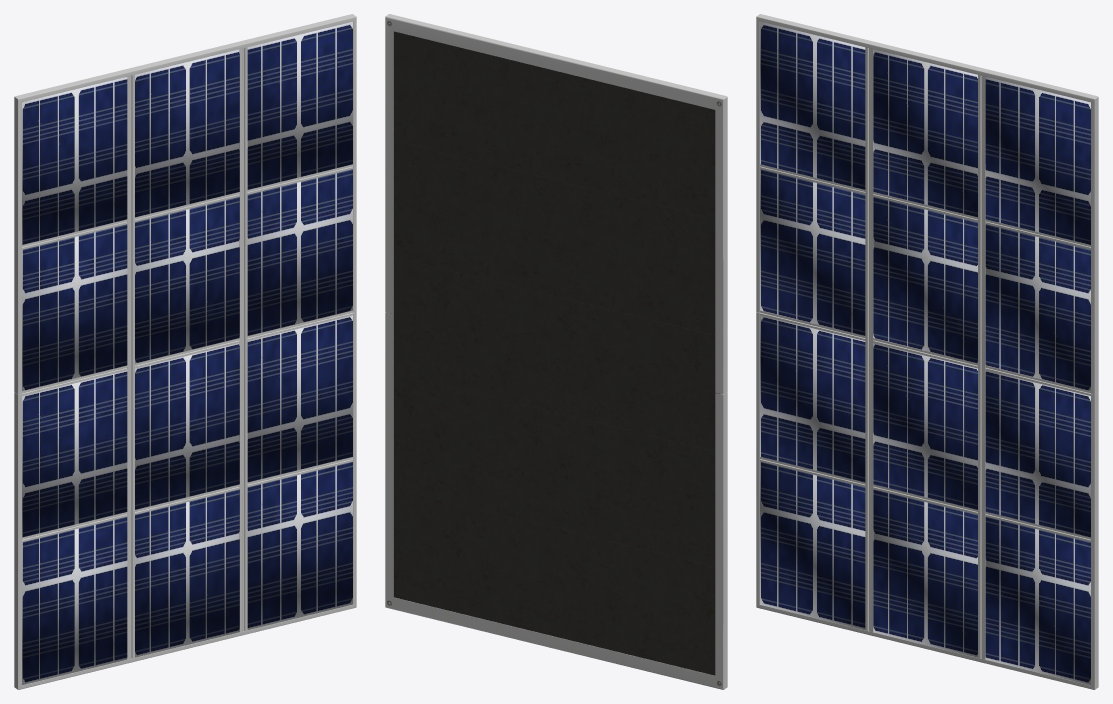
Rendered from solar_panel.glb.
3 renders of one model, left to right at view 1: azimuth 30°, elevation 25°; view 2: azimuth 150°, elevation 25°; view 3: azimuth 330°, elevation 25°, orthographic.
Visible parts, largest first — view 1: solar_face, solar_panel; view 2: solar_panel; view 3: solar_face, solar_panel.
Boxes of the visible parts, bbox=[...] form: solar_face: bbox=[22, 22, 352, 685]; solar_panel: bbox=[14, 14, 356, 689]; solar_panel: bbox=[385, 14, 727, 689]; solar_face: bbox=[760, 21, 1090, 685]; solar_panel: bbox=[756, 14, 1098, 689].
Bounding box in the file's own units: 0.309 × 0.515 × 0.00756.
Materials: 4 (4 with a texture image).
